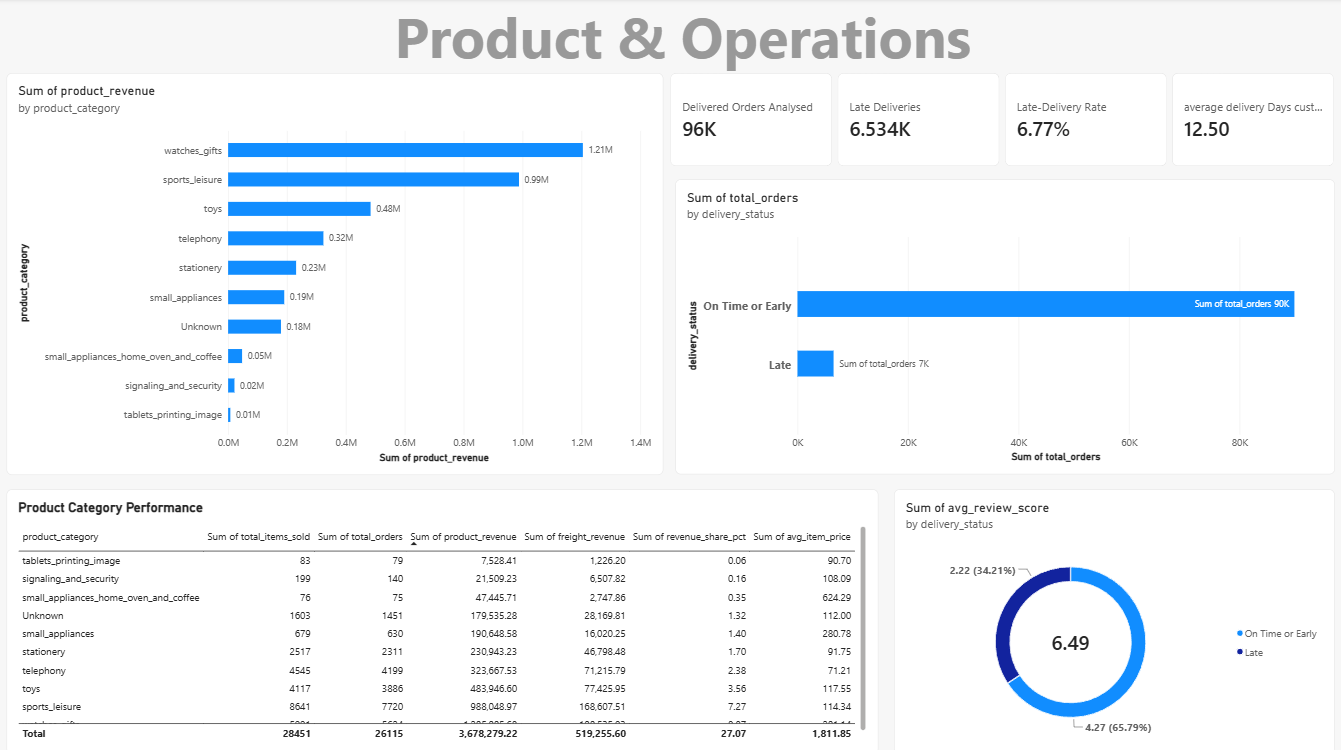

This screenshot's page, from the dashboard's own definition file:
{"tool":"powerbi","page":{"name":"Page 3","canvas":[1920,1080],"ordinal":2},"visuals":[{"type":"textbox","box":[10.3,0,1910.1,125.6],"z":0},{"type":"cardVisual","fields":{"Data":["delivery_performance_summary.Delivered Orders Analysed","delivery_performance_summary.Late Deliveries","delivery_performance_summary.Late-Delivery Rate","dim_customers.average delivery Days customers","delivery_performance_summary.Late-Delivery Rate"]},"box":[959.2,107,948.9,133.5],"z":1000},{"type":"clusteredBarChart","fields":{"Category":["product_category_summary_mart.product_category"],"Y":["Sum(product_category_summary_mart.product_revenue)"]},"box":[10.3,107,938.6,574.3],"z":1001},{"type":"tableEx","title":"Product Category Performance","fields":{"Values":["product_category_summary_mart.product_category","Sum(product_category_summary_mart.total_items_sold)","Sum(product_category_summary_mart.total_orders)","Sum(product_category_summary_mart.product_revenue)","Sum(product_category_summary_mart.freight_revenue)","Sum(product_category_summary_mart.revenue_share_pct)","Sum(product_category_summary_mart.avg_item_price)"]},"box":[10.3,701.9,1245.3,378.7],"z":1002},{"type":"donutChart","fields":{"Category":["delivery_performance_summary.delivery_status"],"Y":["Sum(delivery_performance_summary.avg_review_score)"]},"box":[1278.2,701.9,629.8,378.7],"z":1004},{"type":"clusteredBarChart","fields":{"Category":["delivery_performance_summary.delivery_status"],"Y":["Sum(delivery_performance_summary.total_orders)"]},"box":[965.4,259.3,942.7,422],"z":1005}]}

Visuals, with their boxes in screenshot pixels (x1, y1, x2, y2), scaled from the page's 1920x1080 canvas onto the 1341x750 screenshot:
textbox: bbox=(7, 0, 1340, 87)
cardVisual - delivery_performance_summary.Delivered Orders Analysed x delivery_performance_summary.Late Deliveries: bbox=(670, 74, 1333, 167)
clusteredBarChart - product_category_summary_mart.product_category x Sum(product_category_summary_mart.product_revenue): bbox=(7, 74, 663, 473)
"Product Category Performance" tableEx: bbox=(7, 487, 877, 749)
donutChart - delivery_performance_summary.delivery_status x Sum(delivery_performance_summary.avg_review_score): bbox=(893, 487, 1333, 749)
clusteredBarChart - delivery_performance_summary.delivery_status x Sum(delivery_performance_summary.total_orders): bbox=(674, 180, 1333, 473)
